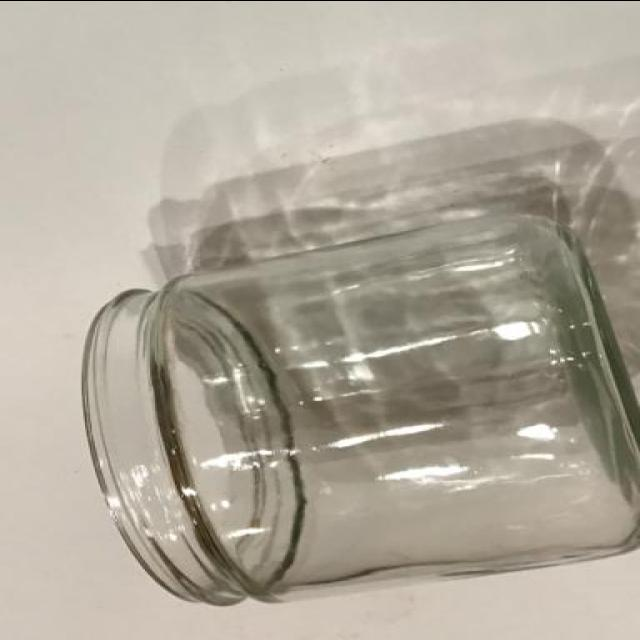Glass Bottle: (79, 214, 636, 605)
